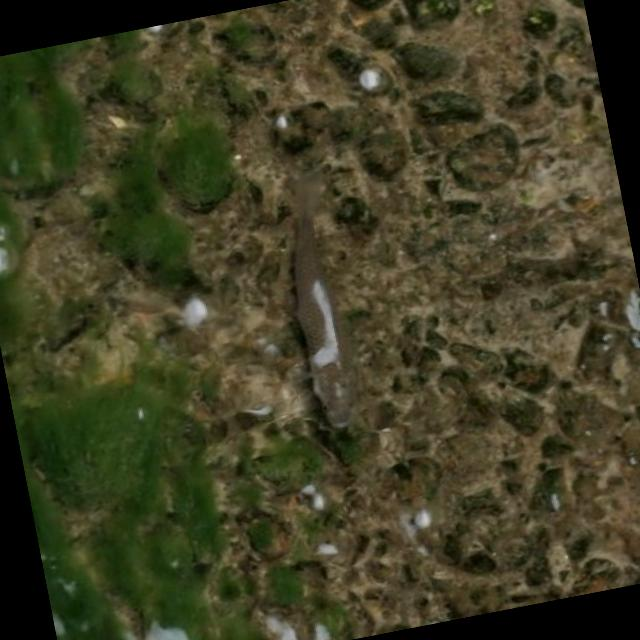Cakil Baligi: (253, 156, 381, 438)
